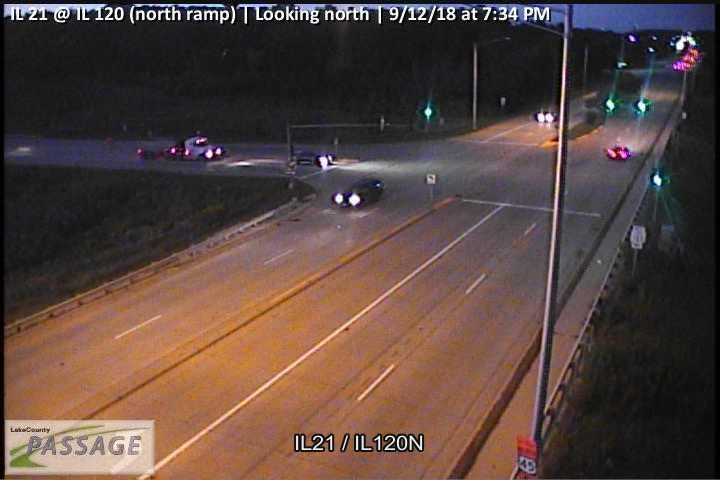Sedan: (333, 178, 385, 207), (288, 147, 335, 168)
